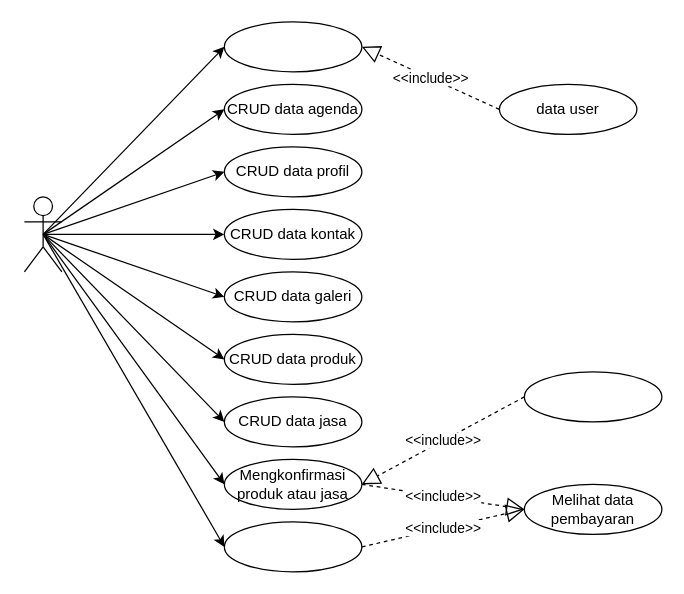
Image size: 684x594. Some labels were removed from this diagram. The shapes that lost their labels are listed below. From the top down, each one's centre as x and y in pixels, then its label:
the point at 292,46: Login
the point at 42,234: Admin
the point at 592,396: Mengirim notif ke user
the point at 292,546: Melihat data costumer
